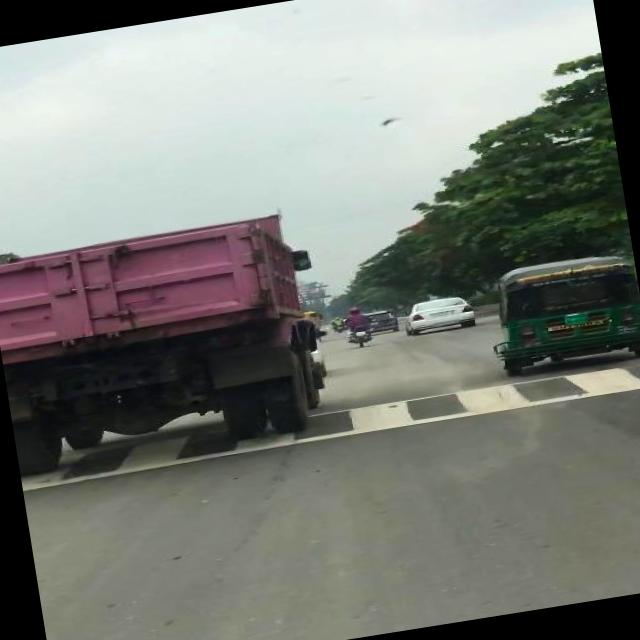car: (397, 292, 480, 340), (369, 307, 398, 335)
motorcycle: (482, 247, 640, 380), (340, 304, 374, 351), (328, 315, 342, 333)
truck: (0, 206, 335, 480)
